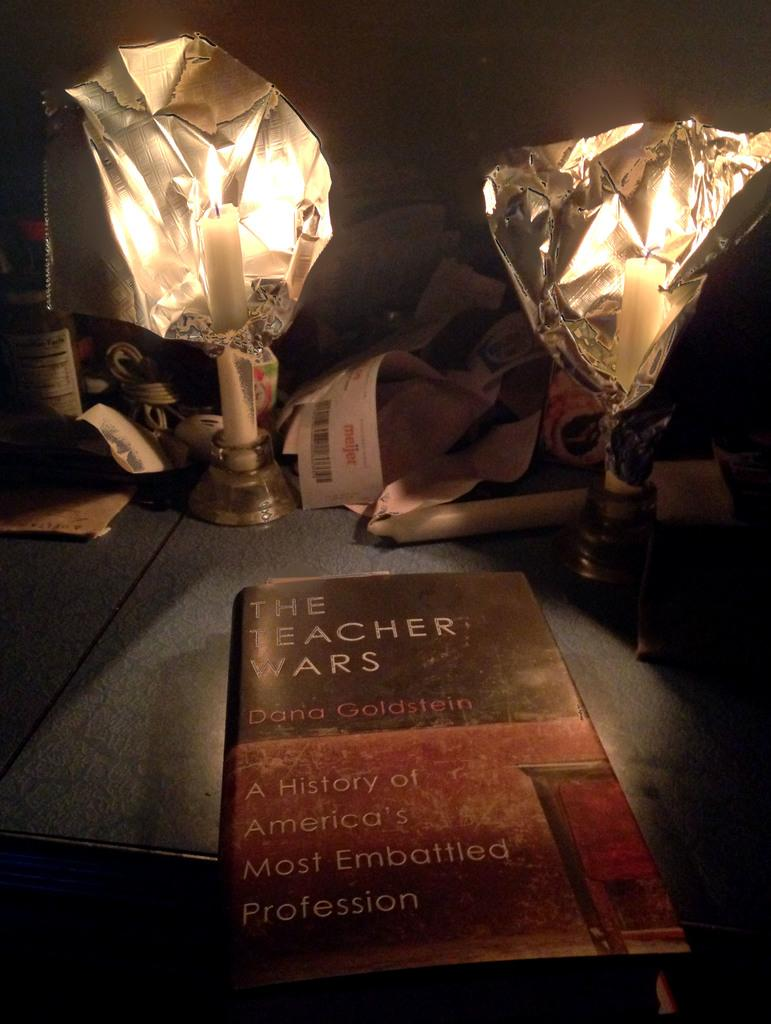book: (214, 565, 688, 981)
